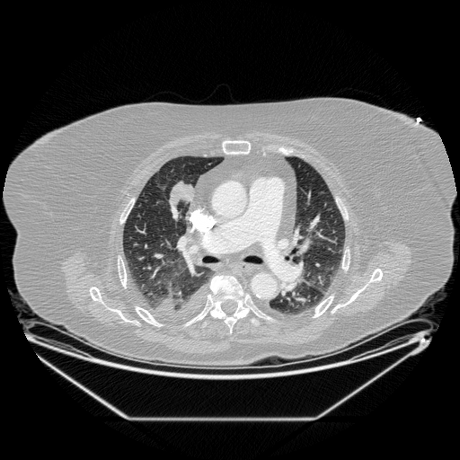nodule: (170, 183, 190, 203)
